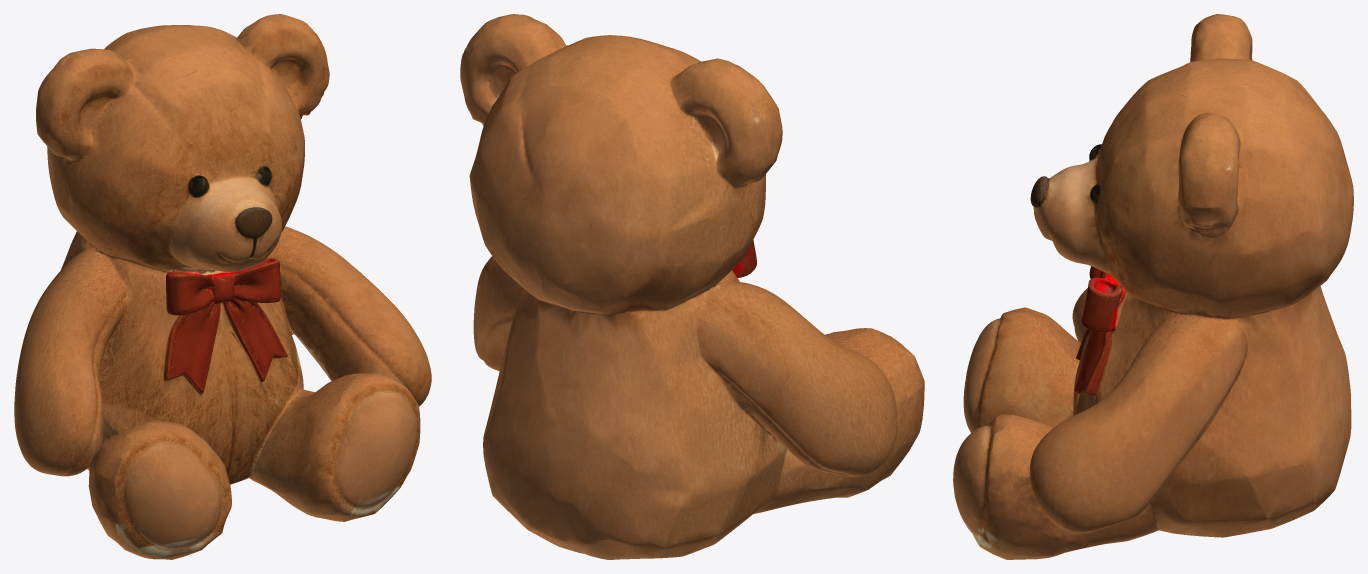
File: Meshy_AI_Cinnamon_Bear_0512200705_texture.fbx
3 renders of one model, left to right at view 1: azimuth 30°, elevation 25°; view 2: azimuth 150°, elevation 25°; view 3: azimuth 270°, elevation 25°, orthographic. The views are drawn at different scales.
Visible parts, largest first — view 1: Mesh_0; view 2: Mesh_0; view 3: Mesh_0.
Part boxes in pixels (x1=…): Mesh_0: x1=14, y1=14, x2=431, y2=559; Mesh_0: x1=460, y1=14, x2=924, y2=559; Mesh_0: x1=953, y1=14, x2=1353, y2=559.
Size of the model in its own units: 173 by 191 by 152.
Materials: 1 (1 with a texture image).
